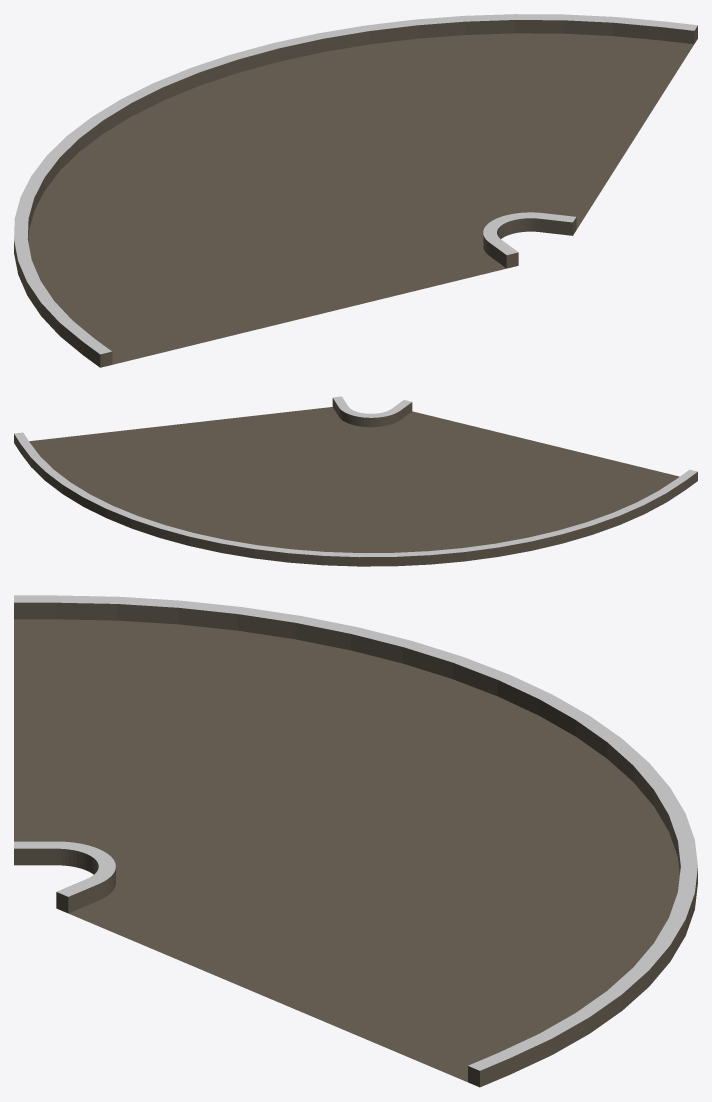
File: s-135.edge.fbx
The picture shows the model from 3 angles, top to bottom: view 1: azimuth 30°, elevation 25°; view 2: azimuth 150°, elevation 25°; view 3: azimuth 270°, elevation 25°; orthographic projection. The views are drawn at different scales.
Visible parts, largest first — view 1: s-135.edge; view 2: s-135.edge; view 3: s-135.edge.
Part boxes in pixels (x1,y1,x2,y2): s-135.edge: (14,14,697,367); s-135.edge: (14,396,697,566); s-135.edge: (14,595,697,1087).
Bounding box in the file's own units: 4605 × 75 × 2800.
